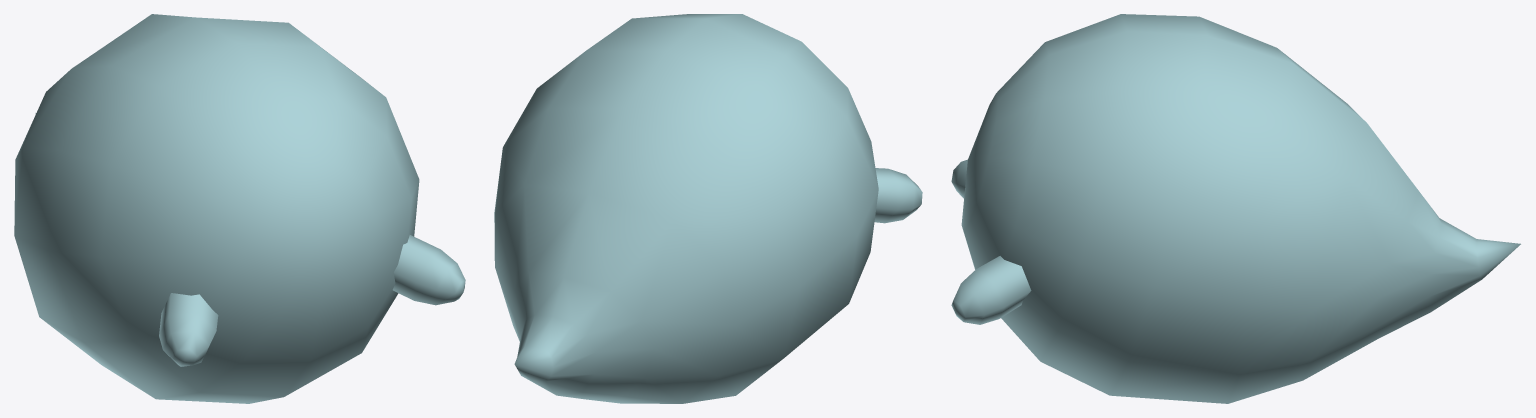
File: ghostyvfx.fbx
3 renders of one model, left to right at view 1: azimuth 30°, elevation 25°; view 2: azimuth 150°, elevation 25°; view 3: azimuth 270°, elevation 25°, orthographic. The views are drawn at different scales.
Parts seen in each view (by area): view 1: ghostyvfx; view 2: ghostyvfx; view 3: ghostyvfx.
Boxes of the visible parts, x1,y1,x2,y2 form: ghostyvfx: [14, 14, 465, 403]; ghostyvfx: [494, 14, 922, 403]; ghostyvfx: [951, 14, 1520, 403].
Size of the model in its own units: 54.13 by 53.55 by 78.25.
